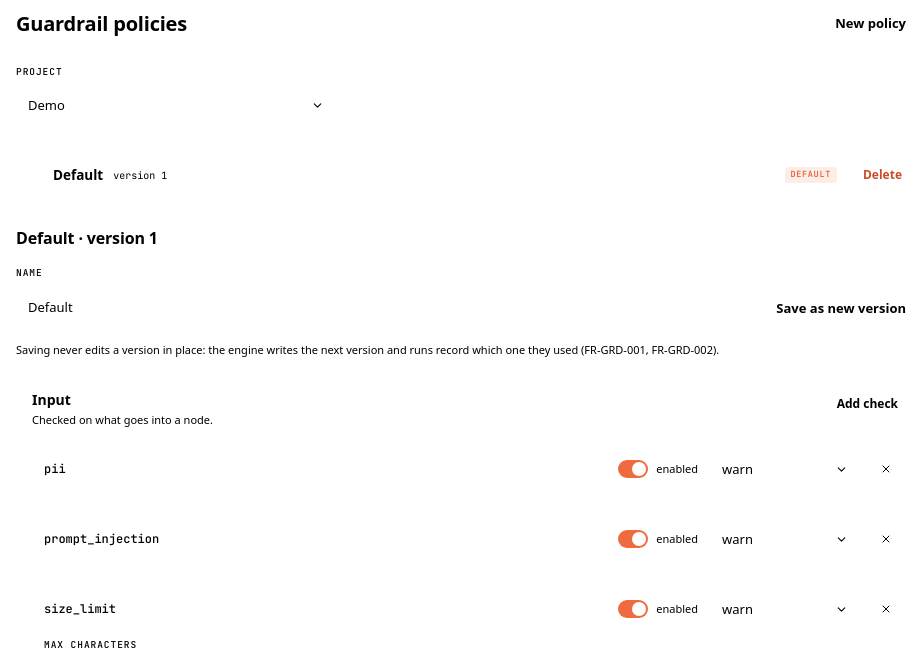
it: TC-GRD-016 all five actions are configurable on a check › offers the five contract actions, with ask_user labelled "ask user"
Click the dropdown named "Action for pii at input". click: click(785, 469)
box: left=710, top=450, right=860, bottom=488
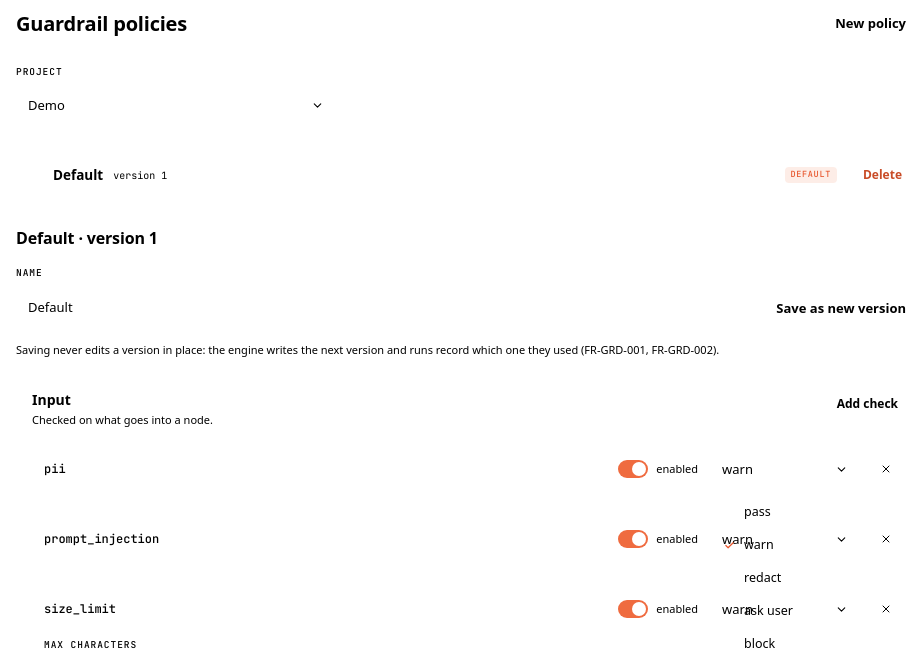
Result: the options read "pass", "warn", "redact", "ask user", "block", in this order at left=744, top=503, right=771, bottom=520; left=724, top=536, right=774, bottom=553; left=744, top=569, right=781, bottom=586; left=744, top=602, right=793, bottom=619; left=744, top=635, right=775, bottom=652
Result: the 4th icon is shown at left=724, top=540, right=735, bottom=550
